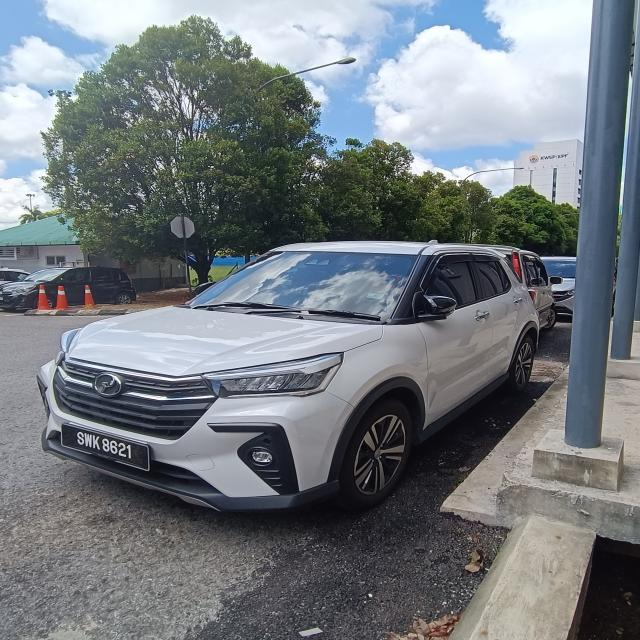PeroduaAtiva: (35, 238, 551, 514)
